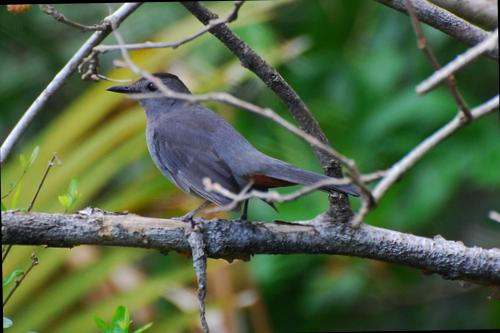bird: (89, 64, 372, 242)
